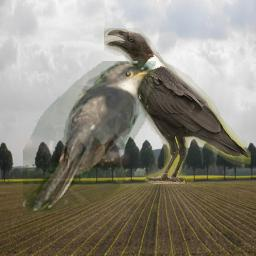Crow: (104, 28, 251, 184)
Cuckoo: (23, 61, 156, 216)
